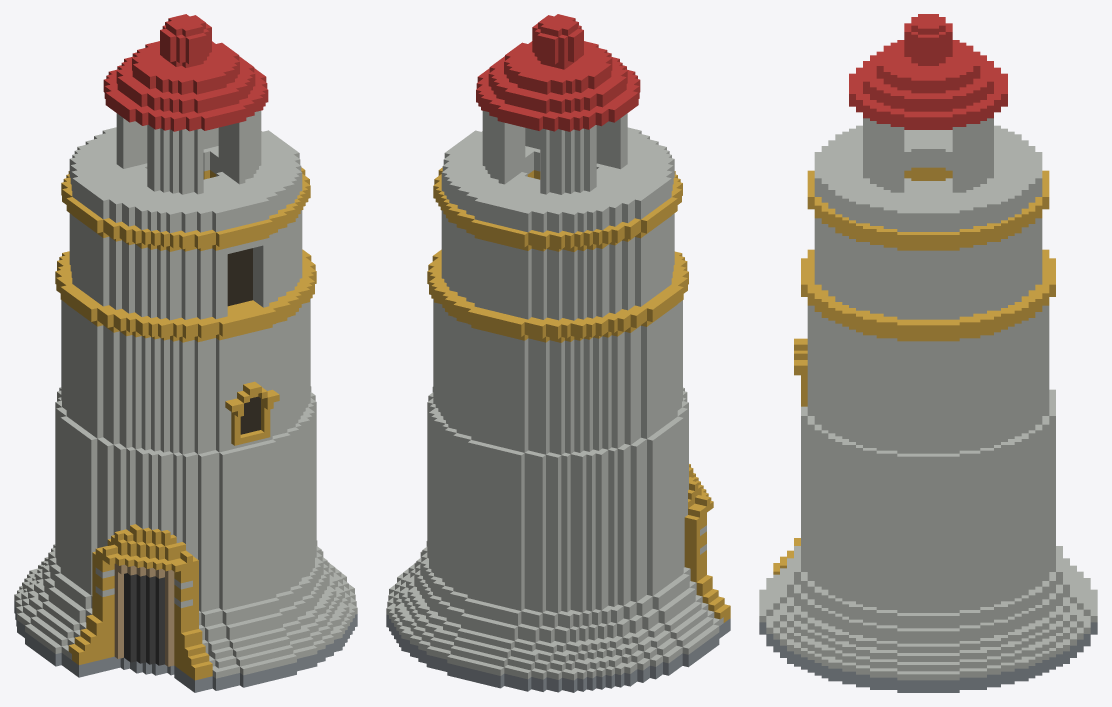
File: 210515guia-0.obj
The picture shows the model from 3 angles, left to right: view 1: azimuth 30°, elevation 25°; view 2: azimuth 150°, elevation 25°; view 3: azimuth 270°, elevation 25°; orthographic projection.
Size of the model in its own units: 4.9 by 9.6 by 4.9.
Materials: 1 (1 with a texture image).
